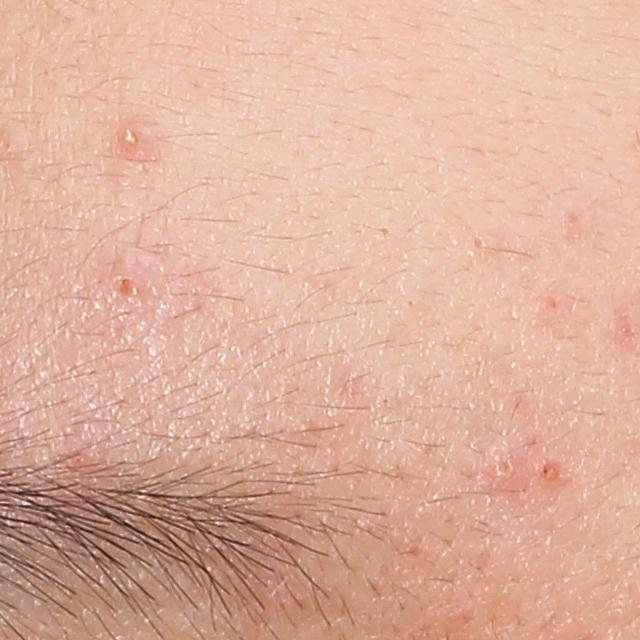papule: (488, 453, 524, 491), (540, 458, 563, 485)
